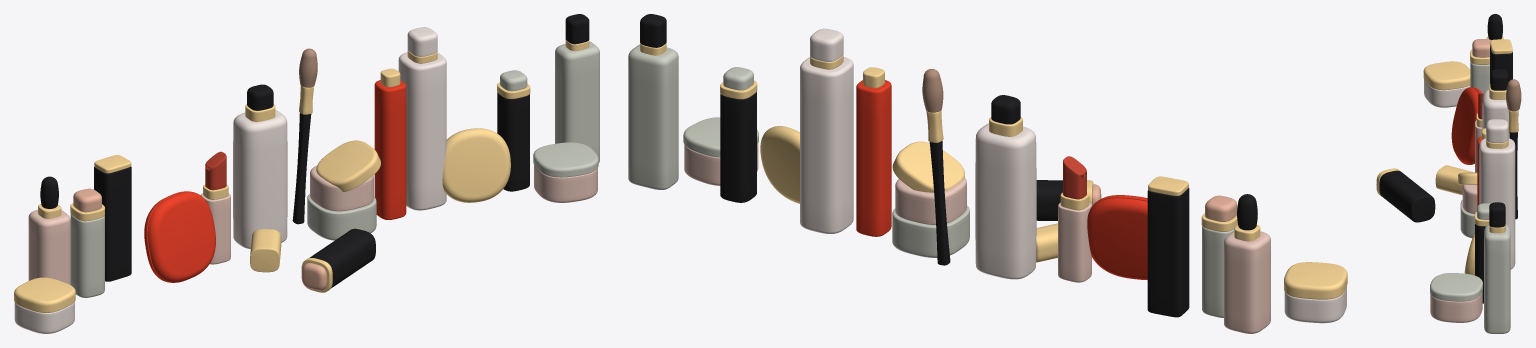
The picture shows the model from 3 angles, left to right: view 1: azimuth 30°, elevation 25°; view 2: azimuth 150°, elevation 25°; view 3: azimuth 270°, elevation 25°; orthographic projection. The views are drawn at different scales.
Parts seen in each view (by area): view 1: serum_body, mist_body, compact_hi, tall_body, goldc, tube_body, box_body, dr_body, stick_body, slim_body, jar_lid, ly_body (+19 smaller); view 2: mist_body, serum_body, tall_body, tube_body, box_body, dr_body, compact_lo, slim_body, goldc, lip_body, jar_lo, jar_lid (+18 smaller); view 3: tall_body, mist_body, ly_body, compact_hi, pot2_lid, pot_lid, pot2_body, pot_body, serum_body, cap, mist_head, slim_body (+23 smaller).
Boxes of the visible parts, x1,y1,x2,y2 form: serum_body: (233, 109, 287, 248); mist_body: (398, 52, 446, 210); compact_hi: (147, 191, 215, 282); tall_body: (555, 41, 599, 162); goldc: (442, 128, 510, 202); tube_body: (374, 80, 406, 219); box_body: (94, 166, 131, 281); dr_body: (28, 210, 70, 284); stick_body: (70, 214, 104, 297); slim_body: (497, 92, 529, 191); jar_lid: (316, 140, 380, 191); ly_body: (309, 228, 375, 287); mist_body: (800, 57, 853, 233); serum_body: (975, 123, 1036, 279); tall_body: (628, 44, 678, 189); tube_body: (856, 80, 891, 236); box_body: (1147, 188, 1189, 317); dr_body: (1224, 231, 1270, 333); compact_lo: (1087, 198, 1147, 279); slim_body: (720, 92, 756, 202); goldc: (760, 126, 799, 203); lip_body: (1058, 202, 1091, 282); jar_lo: (892, 205, 969, 257); jar_lid: (892, 141, 964, 192); tall_body: (1484, 224, 1510, 333); mist_body: (1479, 138, 1515, 269); ly_body: (1379, 170, 1435, 222); compact_hi: (1451, 87, 1478, 164); pot2_lid: (1430, 273, 1482, 301); pot_lid: (1423, 61, 1470, 90); pot2_body: (1430, 291, 1482, 322); pot_body: (1424, 79, 1470, 107); serum_body: (1482, 89, 1509, 138); cap: (1435, 165, 1474, 195); mist_head: (1486, 119, 1508, 142); slim_body: (1475, 224, 1485, 303).
Size of the model in its own units: 0.5711 by 0.1538 by 0.1418.
